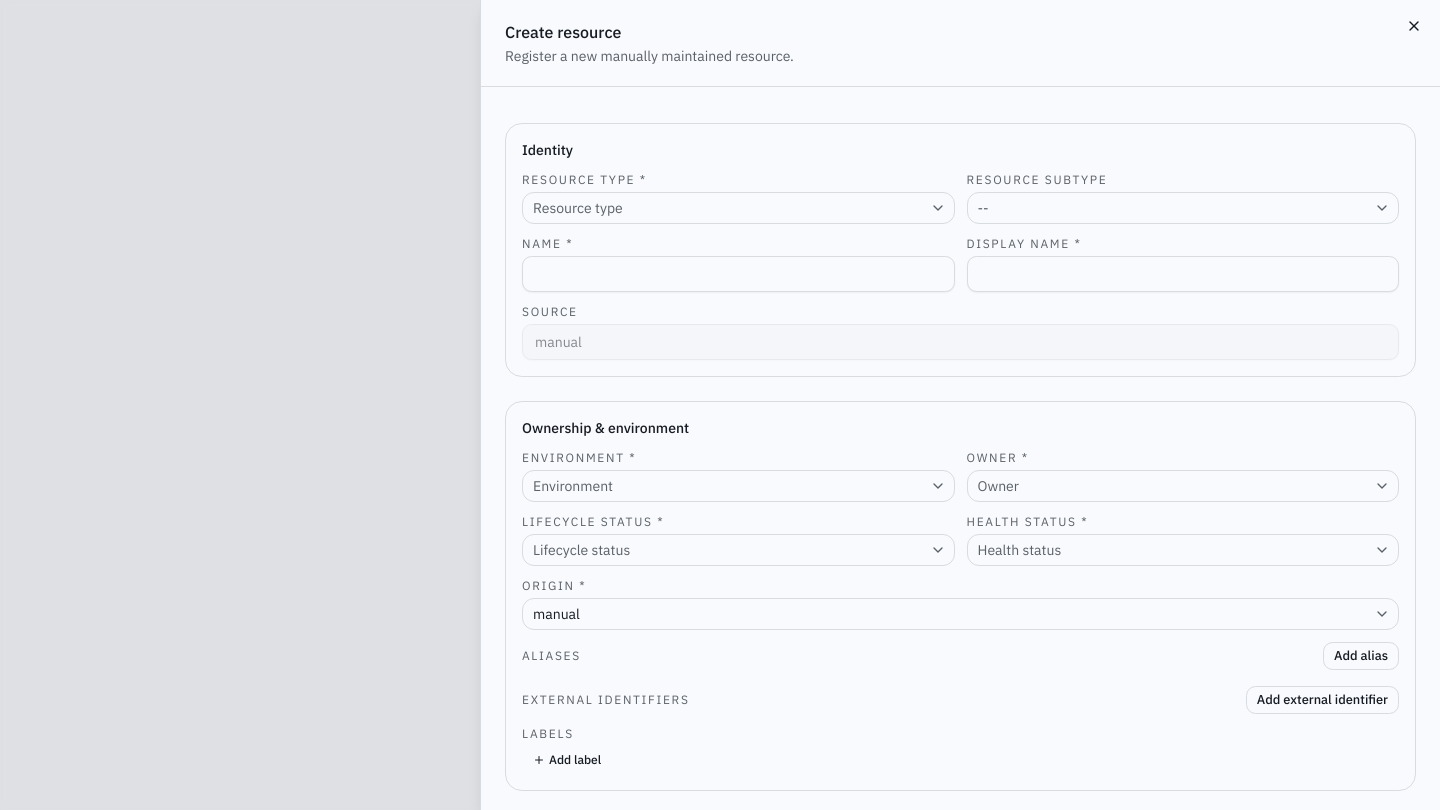
Test: CreateResourceSheet › shows profile section with engine, version, host, port, role for database_instance
# First trigger is resourceType
Click the dropdown labelled "Resource type ▼".
click(578, 208)  # box [522,192,954,224]
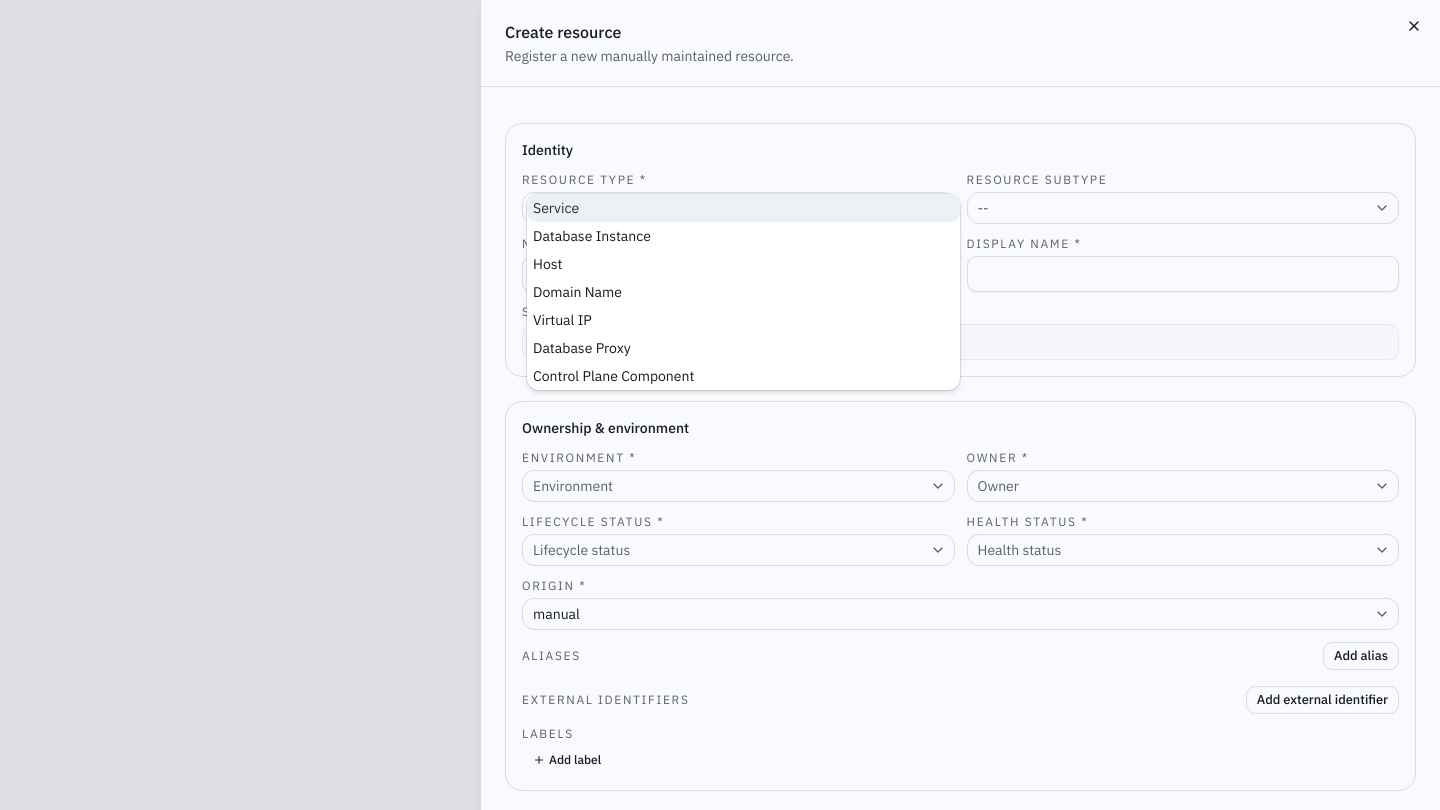
# Click the Database Instance option
Click the option "Database Instance".
click(592, 236)  # box [533,227,651,245]
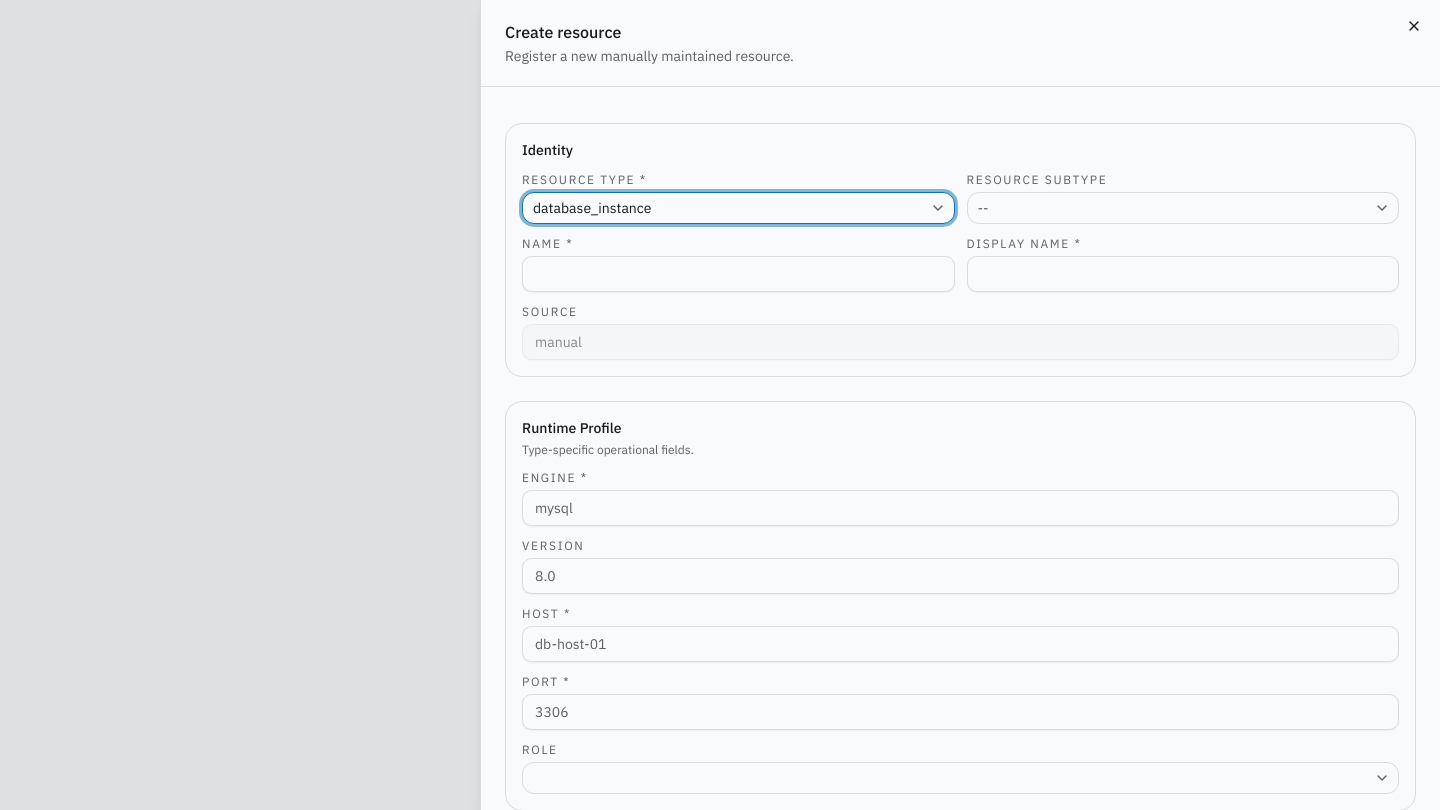
Now the heading "Runtime Profile" is shown, box [522,419,622,437]
Now the text "Engine *" is shown, box [522,470,588,485]
Now the text "Host *" is shown, box [522,606,571,621]
